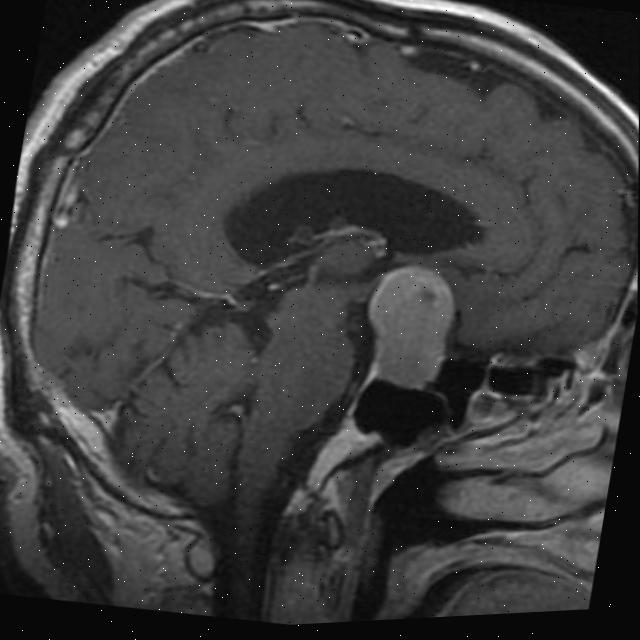Pituitary: (355, 256, 460, 398)
